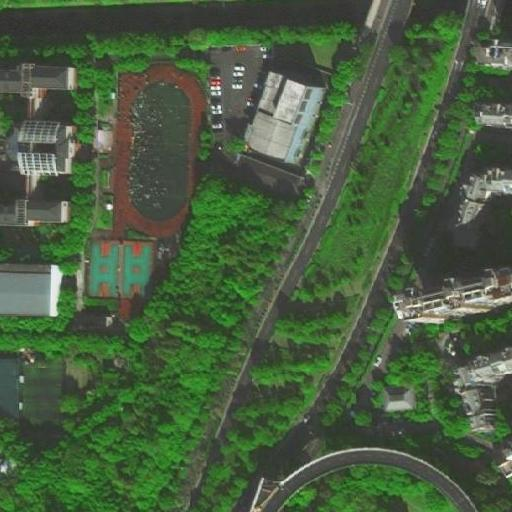building: (246, 68, 320, 160), (417, 285, 512, 326), (230, 145, 305, 196), (448, 185, 490, 253), (19, 118, 76, 167), (2, 59, 76, 91), (2, 194, 74, 222), (461, 349, 512, 384), (465, 386, 502, 429), (0, 357, 21, 417), (465, 36, 512, 62), (480, 102, 512, 130), (385, 384, 419, 410), (481, 168, 511, 197), (495, 431, 512, 465), (83, 316, 113, 332)
